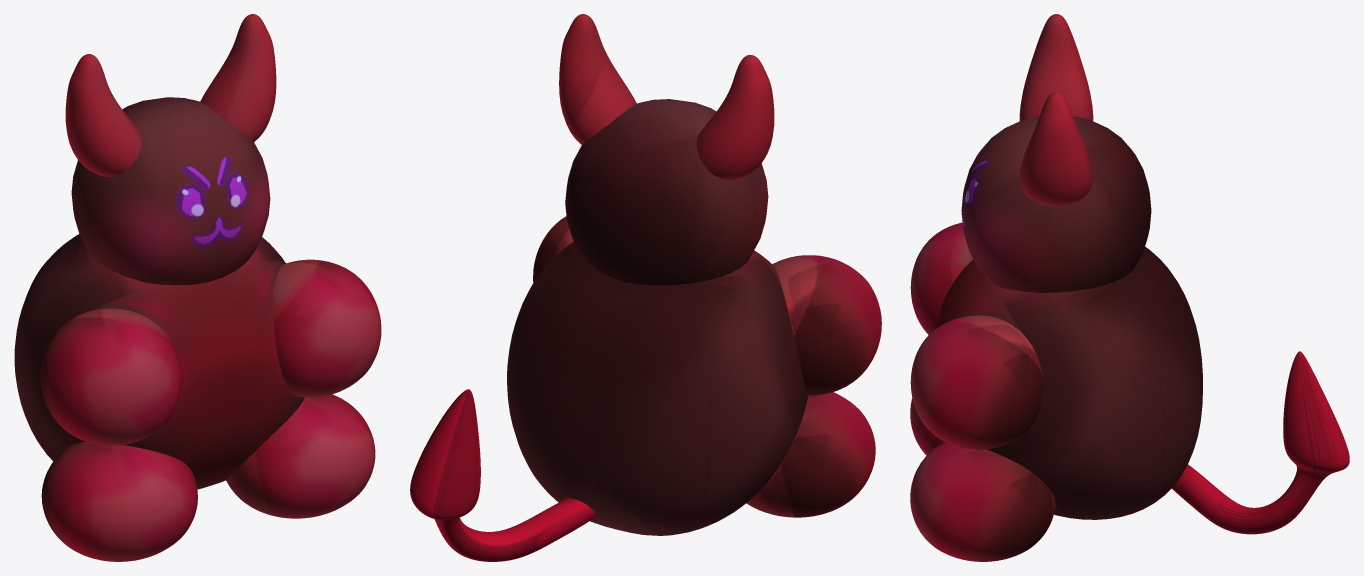
The model's file is Demon-plush-collectible.fbx.
3 renders of one model, left to right at view 1: azimuth 30°, elevation 25°; view 2: azimuth 150°, elevation 25°; view 3: azimuth 270°, elevation 25°, orthographic. The views are drawn at different scales.
Visible parts, largest first — view 1: DemonPlush; view 2: DemonPlush; view 3: DemonPlush.
Boxes of the visible parts, box(x1,y1,x2,y2) form: DemonPlush: box(14, 14, 381, 561); DemonPlush: box(410, 14, 881, 561); DemonPlush: box(910, 14, 1349, 561).
Bounding box in the file's own units: 318 × 445 × 388.
Materials: 1 (1 with a texture image).
